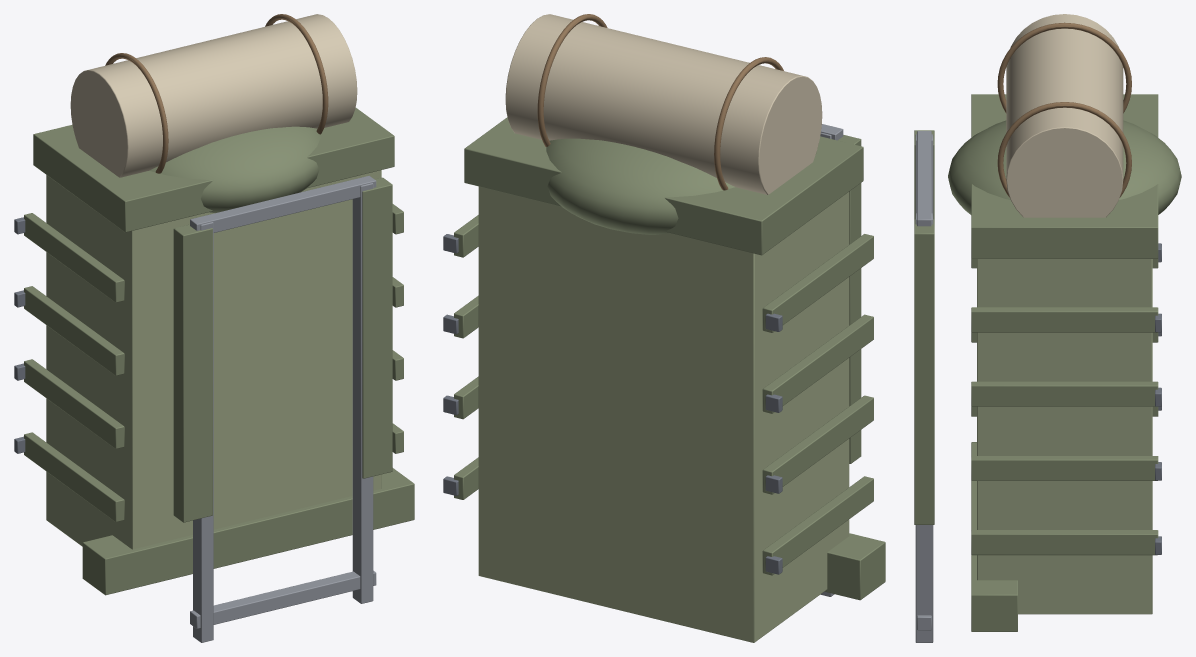
The model's file is SM_PACK_EXPEDITION_LONGHAUL.fbx.
The picture shows the model from 3 angles, left to right: view 1: azimuth 30°, elevation 25°; view 2: azimuth 150°, elevation 25°; view 3: azimuth 270°, elevation 25°; orthographic projection. The views are drawn at different scales.
Parts seen in each view (by area): view 1: SM_PACK_EXPEDITION_LONGHAUL; view 2: SM_PACK_EXPEDITION_LONGHAUL; view 3: SM_PACK_EXPEDITION_LONGHAUL.
Boxes of the visible parts, x1,y1,x2,y2 form: SM_PACK_EXPEDITION_LONGHAUL: [14, 14, 414, 642]; SM_PACK_EXPEDITION_LONGHAUL: [443, 14, 885, 642]; SM_PACK_EXPEDITION_LONGHAUL: [914, 14, 1181, 642].
Size of what is drawn, in the model's own units: 0.62 by 1.01 by 0.4575.
